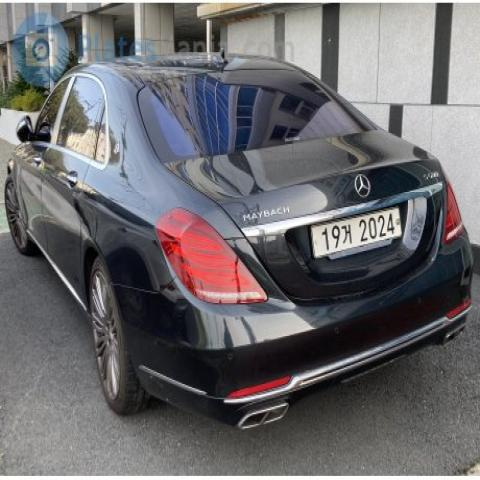LP: (298, 199, 411, 269)
